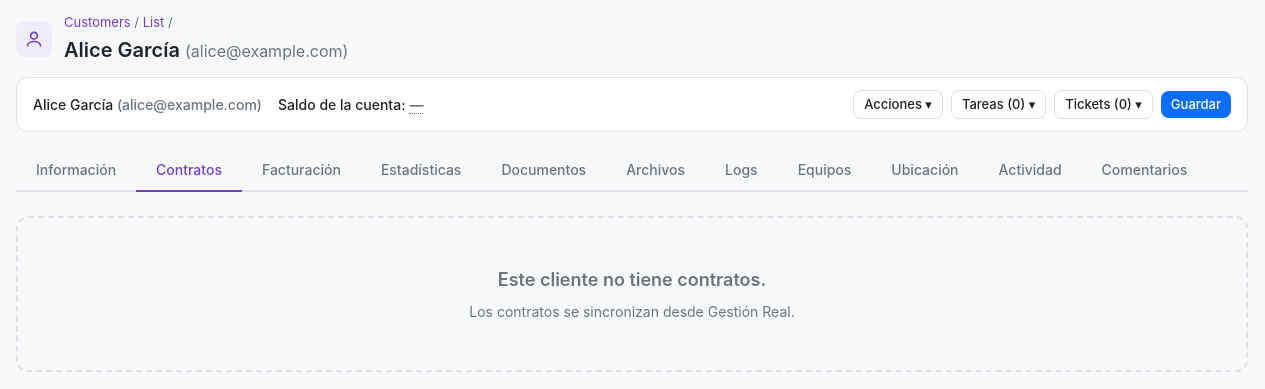
CustomerDetailPage › clicking "Acciones" shows dropdown items
The width and height of the screenshot is (1265, 389).
What coordinates should you click on to do the following:
click the button "Acciones ▾"
I would click on:
 (898, 104)
Its box is top-left (853, 90), bottom-right (943, 119).
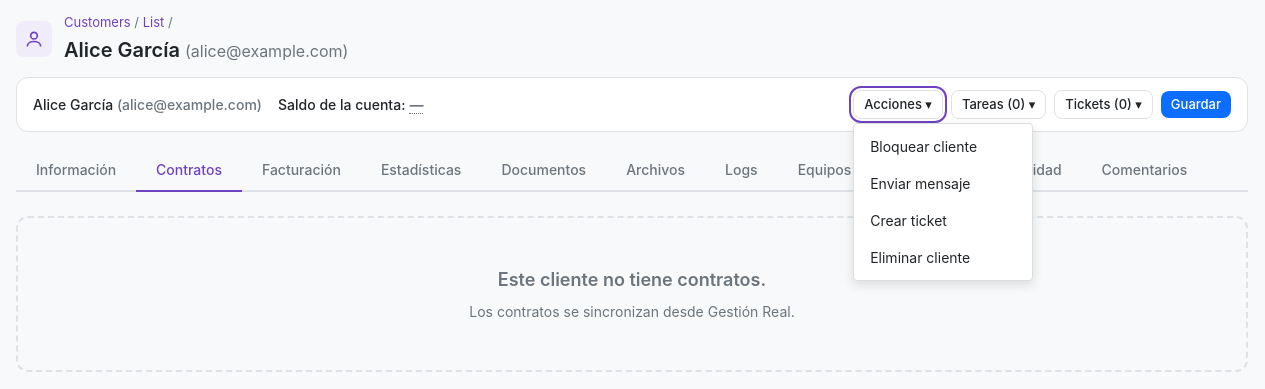
Now the button "Bloquear cliente" is shown, box top-left (854, 128), bottom-right (1032, 165)
Now the button "Enviar mensaje" is shown, box top-left (854, 165), bottom-right (1032, 202)
Now the button "Crear ticket" is shown, box top-left (854, 202), bottom-right (1032, 239)
